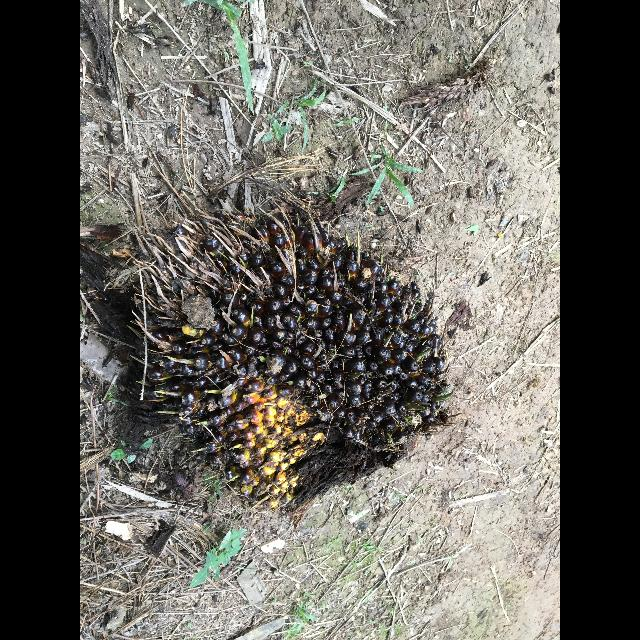Unripe: (141, 222, 447, 506)
